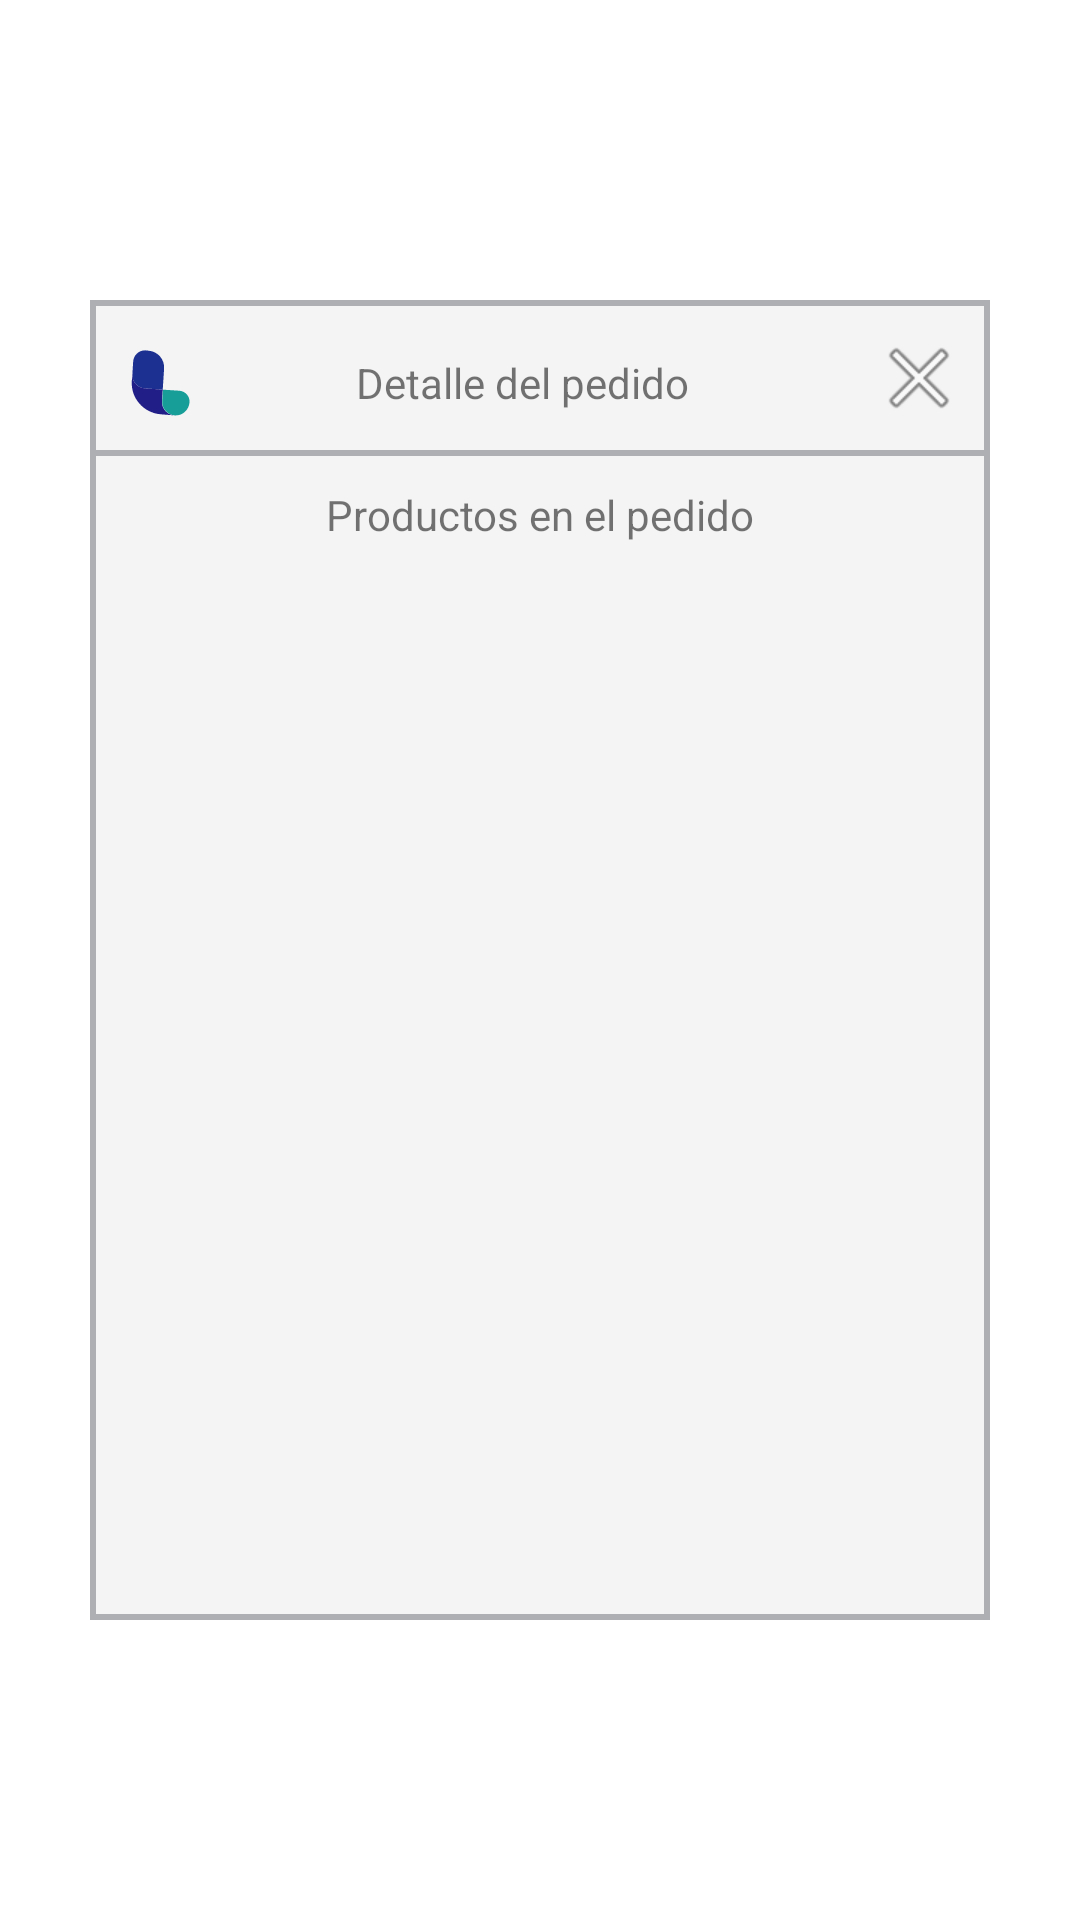

Point at icon controls on the screen. Image size 1080×1920, points as (x=x, y=y).
close clear cancel: (x=919, y=378)
